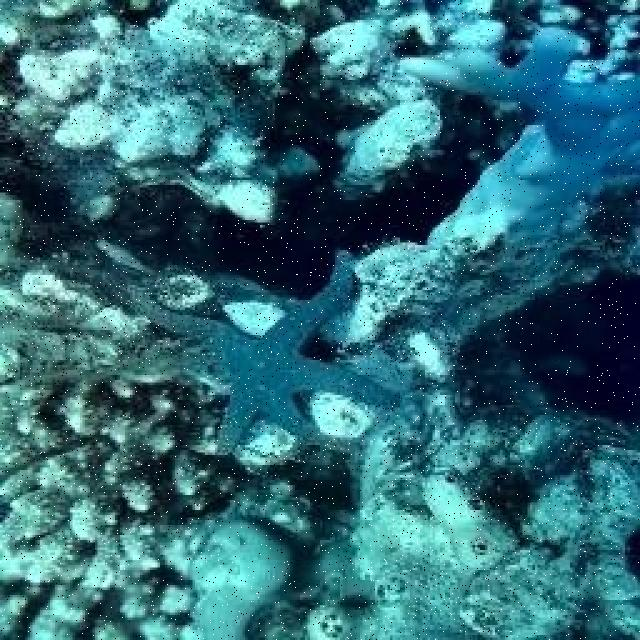reefs: (116, 247, 403, 465)
